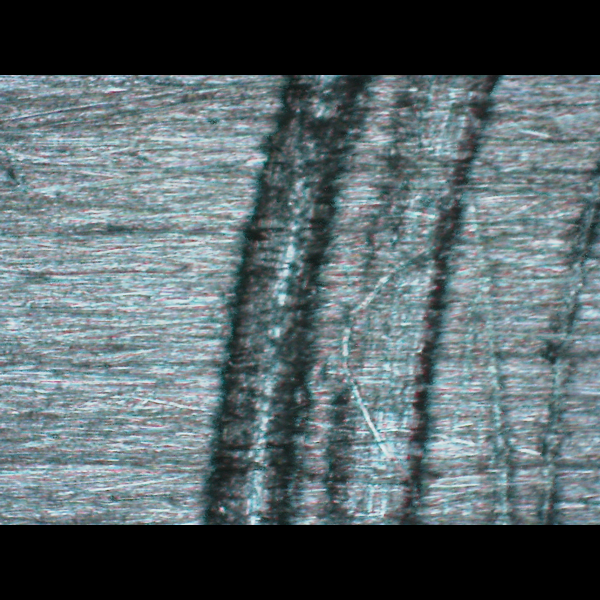d: (191, 75, 583, 523)
